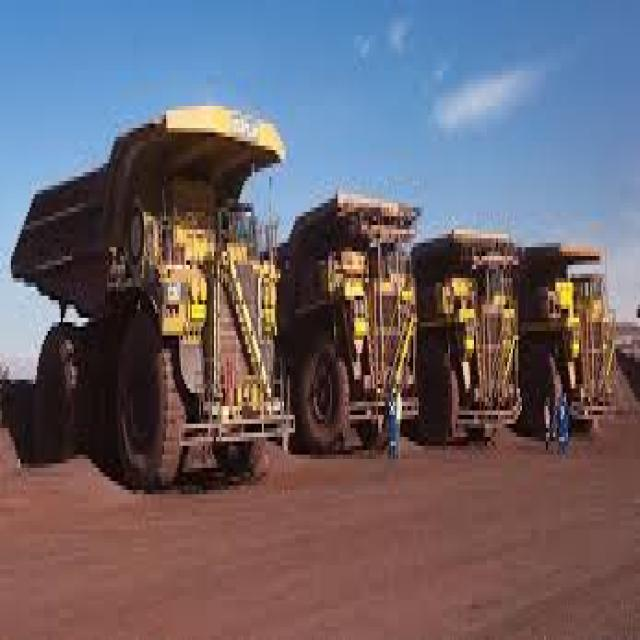dump_truck: (18, 70, 294, 498), (273, 172, 424, 450), (516, 208, 622, 494), (409, 185, 516, 446)
